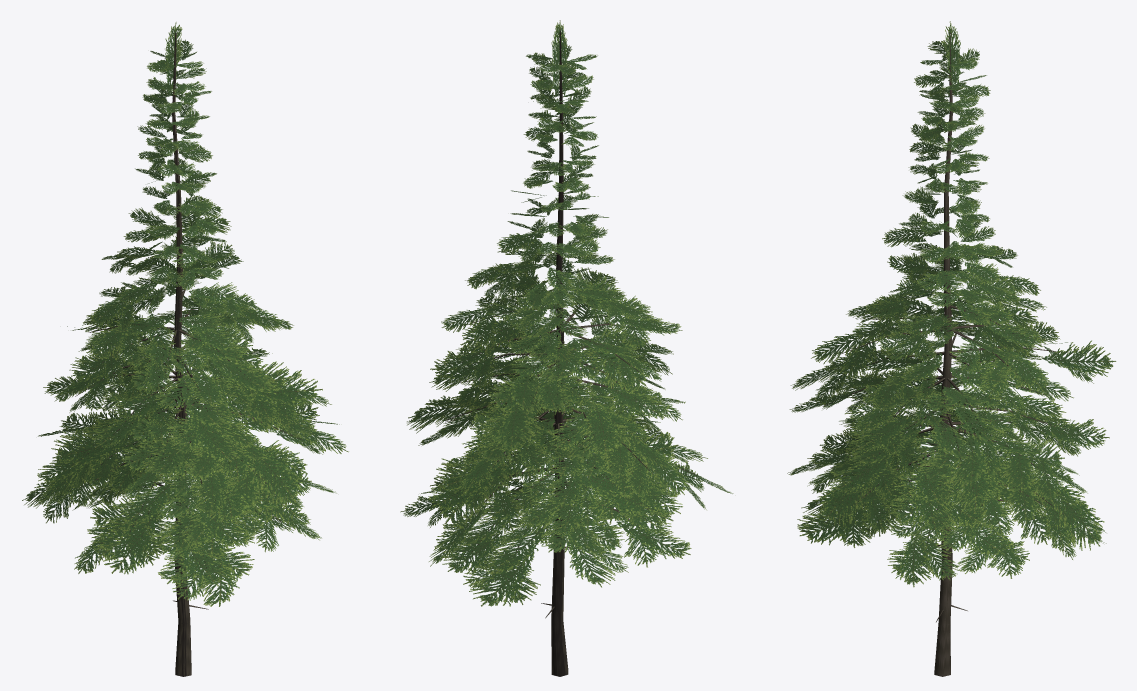
Rendered from near.glb.
3 renders of one model, left to right at view 1: azimuth 30°, elevation 25°; view 2: azimuth 150°, elevation 25°; view 3: azimuth 270°, elevation 25°, orthographic.
Visible parts, largest first — view 1: spruce_01; view 2: spruce_01; view 3: spruce_01.
Part boxes in pixels (box(x1,y1,x2,y2)): spruce_01: box(22, 22, 348, 676); spruce_01: box(400, 20, 733, 676); spruce_01: box(787, 21, 1116, 676).
Bounding box in the file's own units: 7.96 × 16.34 × 7.85.
Materials: 2 (2 with a texture image).
